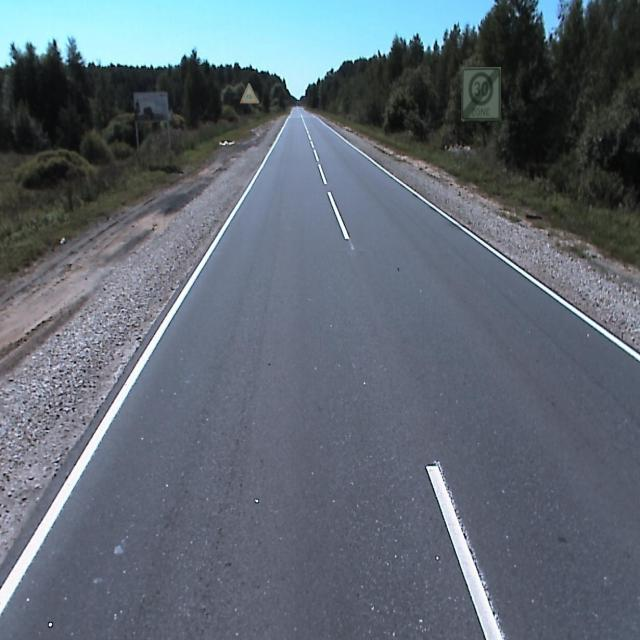road: (0, 107, 639, 639)
